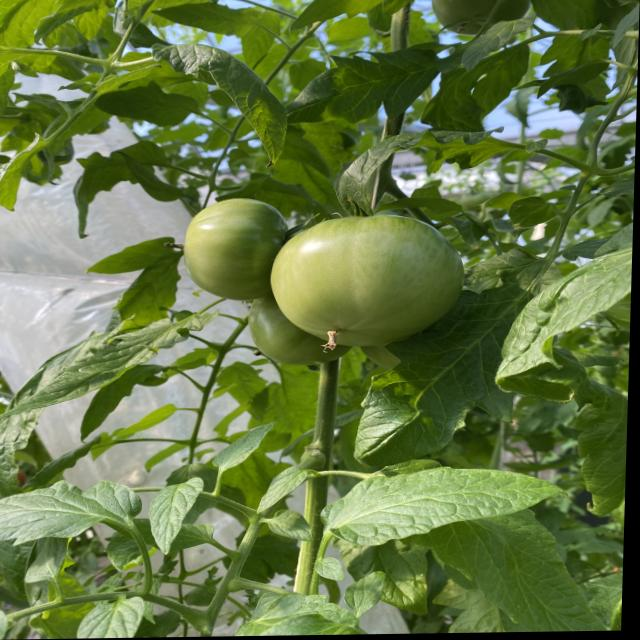yesil: (76, 154, 492, 374)
